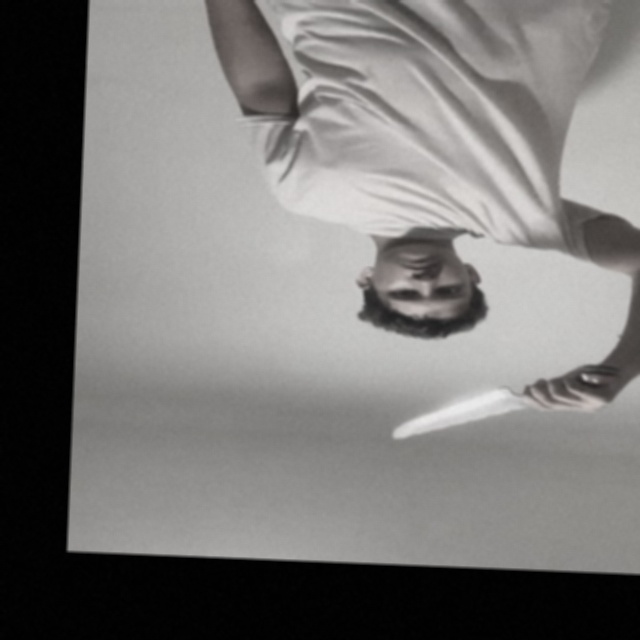Sharp-Object: (396, 382, 520, 445)
